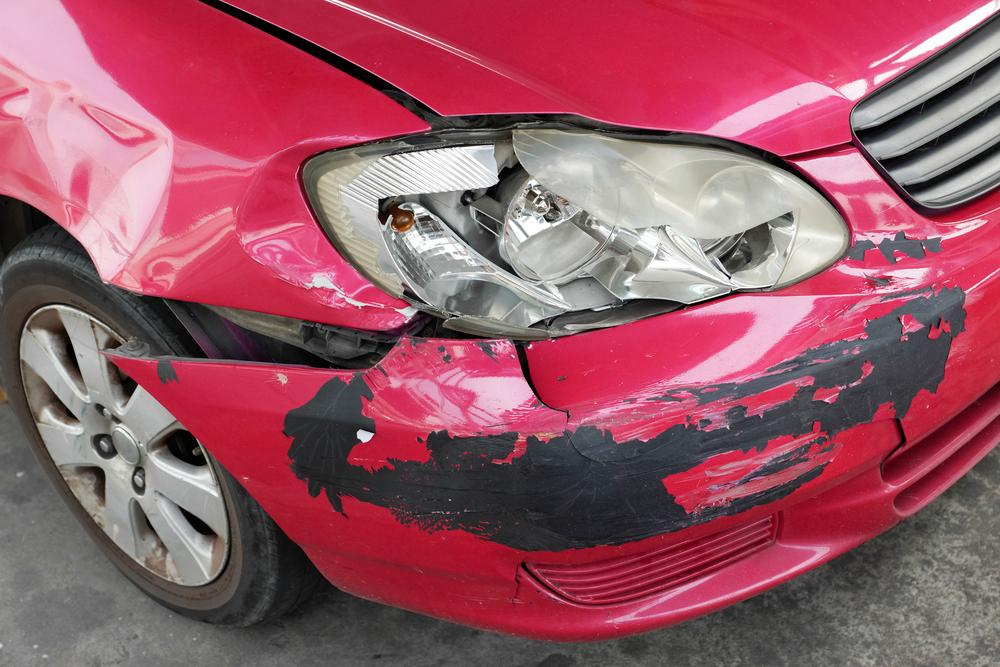crack: (511, 339, 570, 426), (879, 419, 907, 477), (511, 564, 521, 612)
dent: (0, 70, 171, 284), (236, 139, 415, 326)
lamp broken: (299, 118, 854, 337)
scratch: (272, 223, 976, 555)
